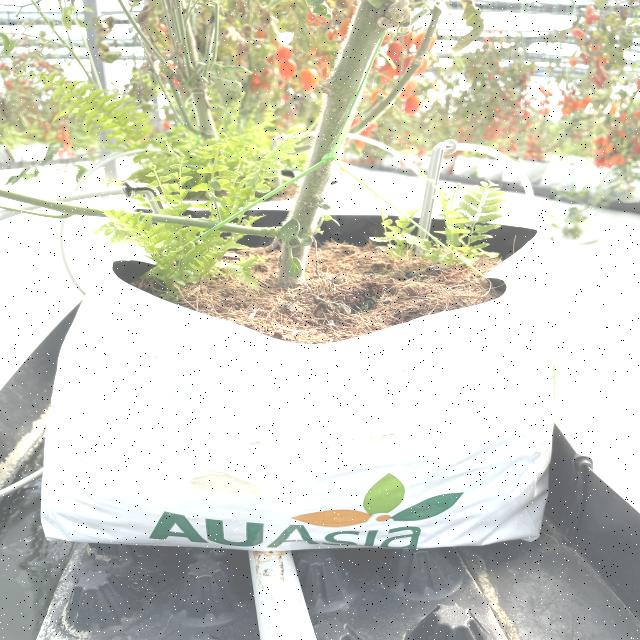Soilbag: (31, 229, 560, 545)
plant: (1, 2, 437, 286)
